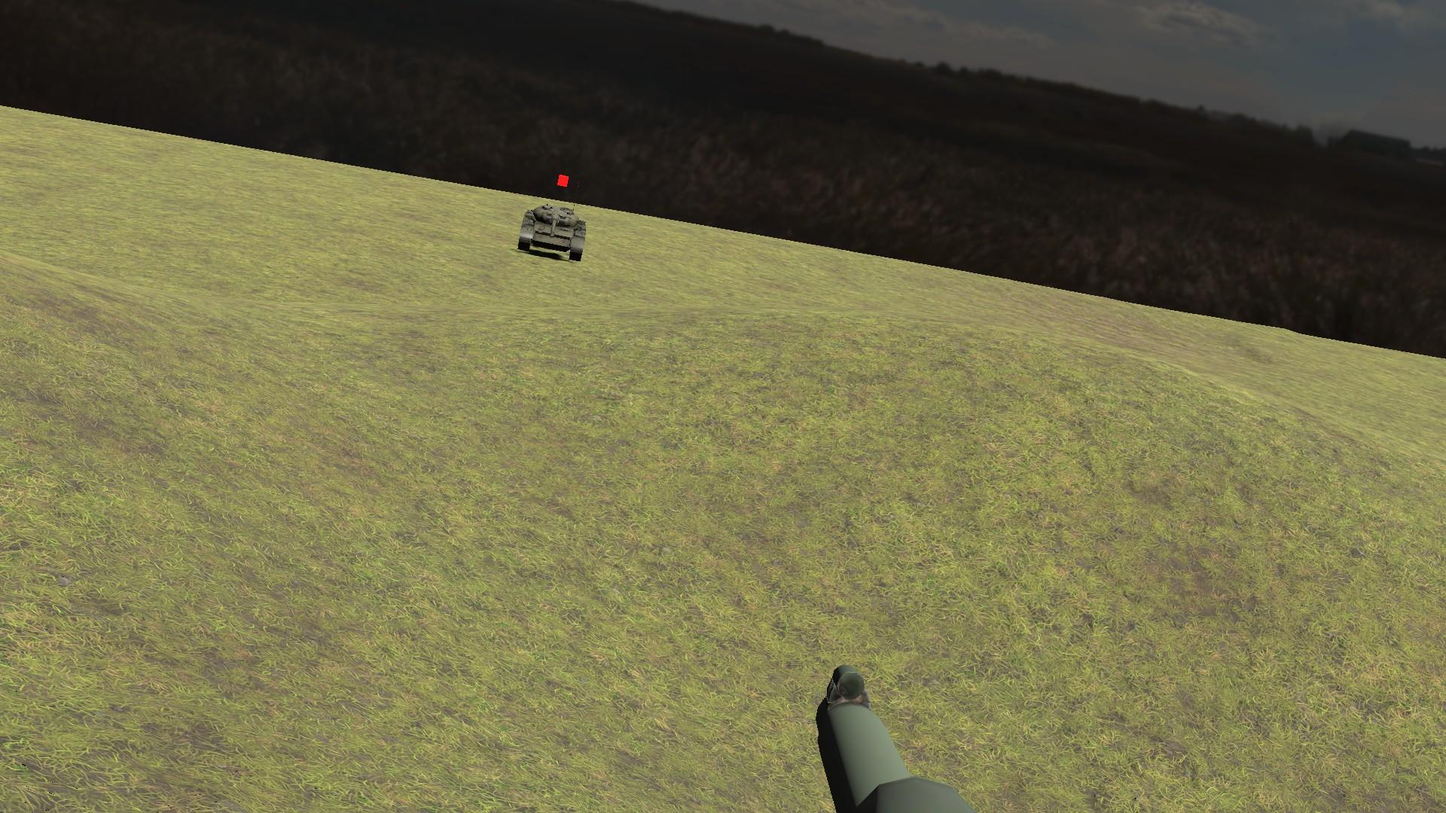Tank: (514, 197, 590, 268)
